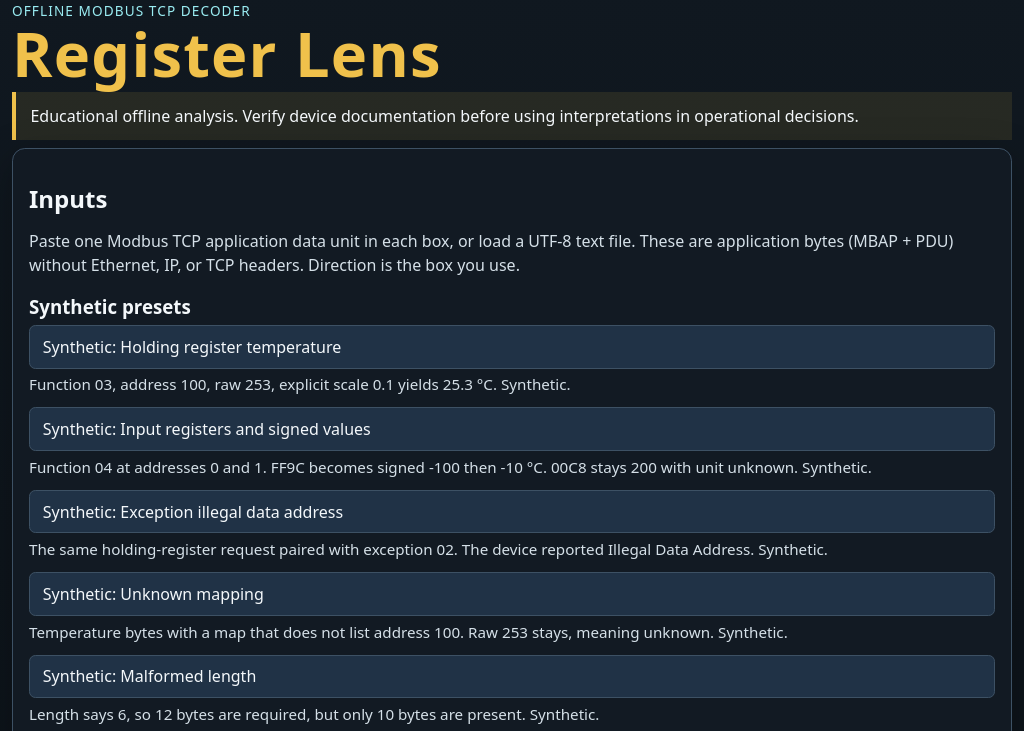
Scenario: Register Lens UI › shows the signed example, an exception, unknown mapping, and a transaction mismatch
Click the button "Synthetic: Input registers and signed values" at (207,429), box [29,407,995,451]
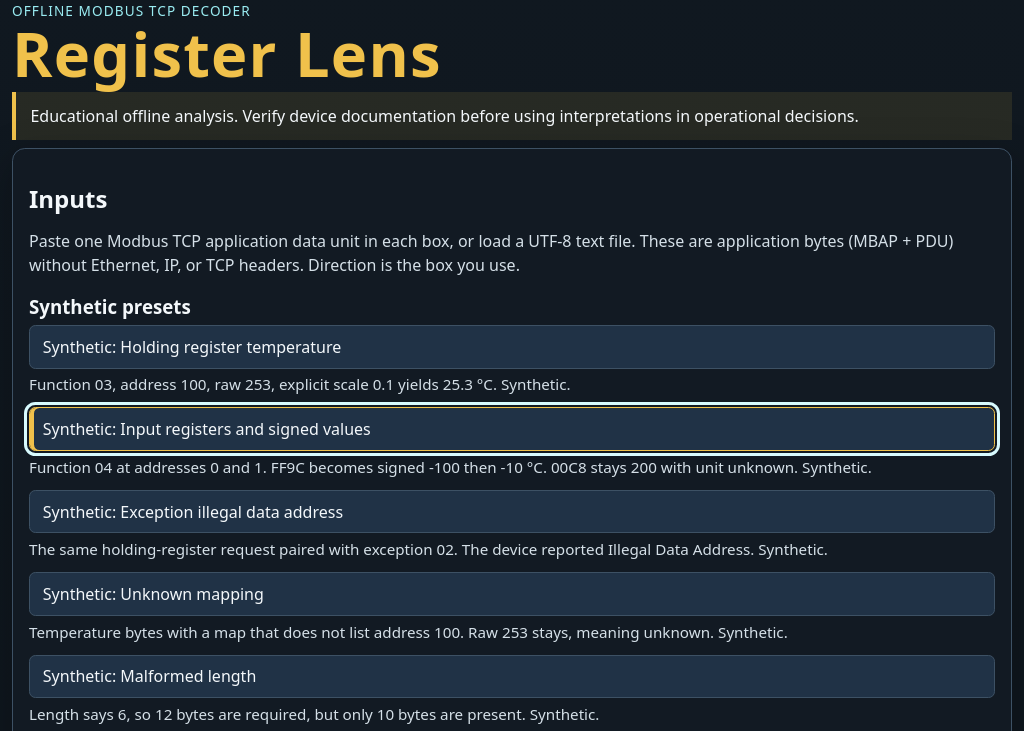
Click the button "Synthetic: Exception illegal data address" at (193,512), box [29,490,995,533]
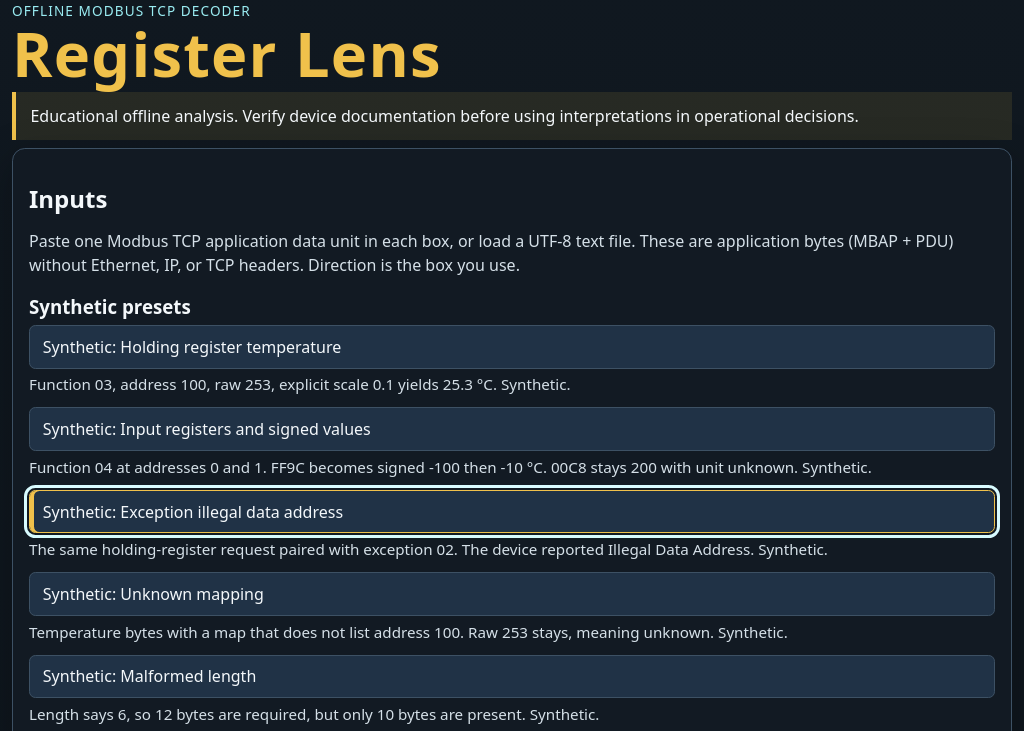
Click the button "Synthetic: Unknown mapping" at (153,594), box [29,572,995,616]
(page scrolled)
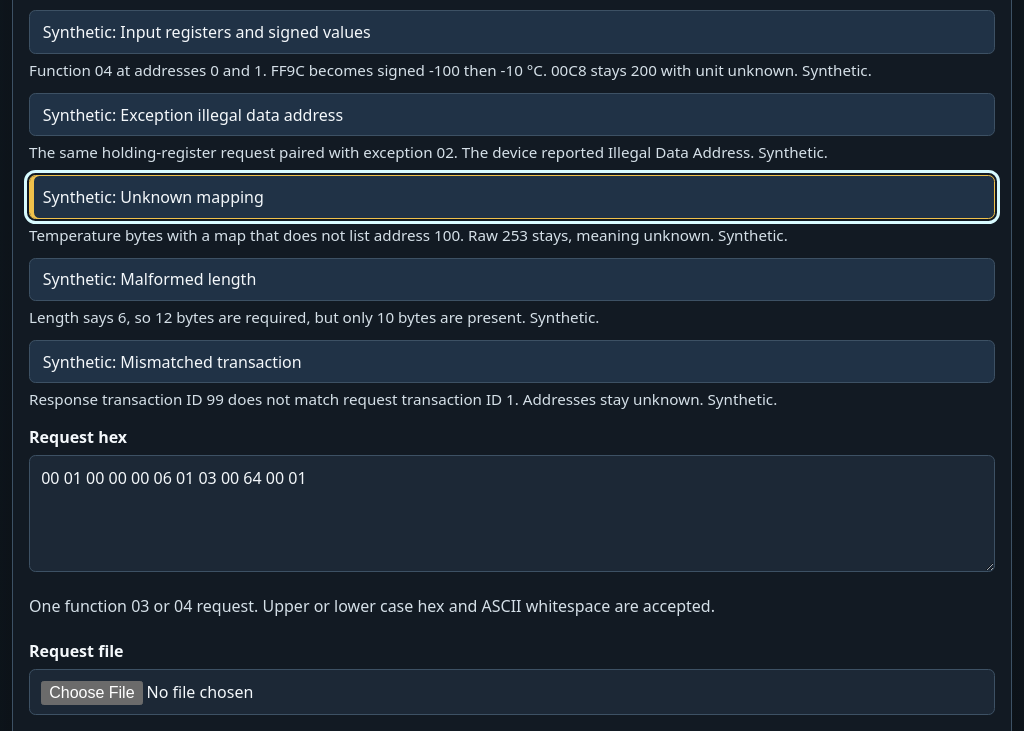
Click the button "Synthetic: Mismatched transaction" at (172,362), box [29,340,995,384]
(page scrolled)
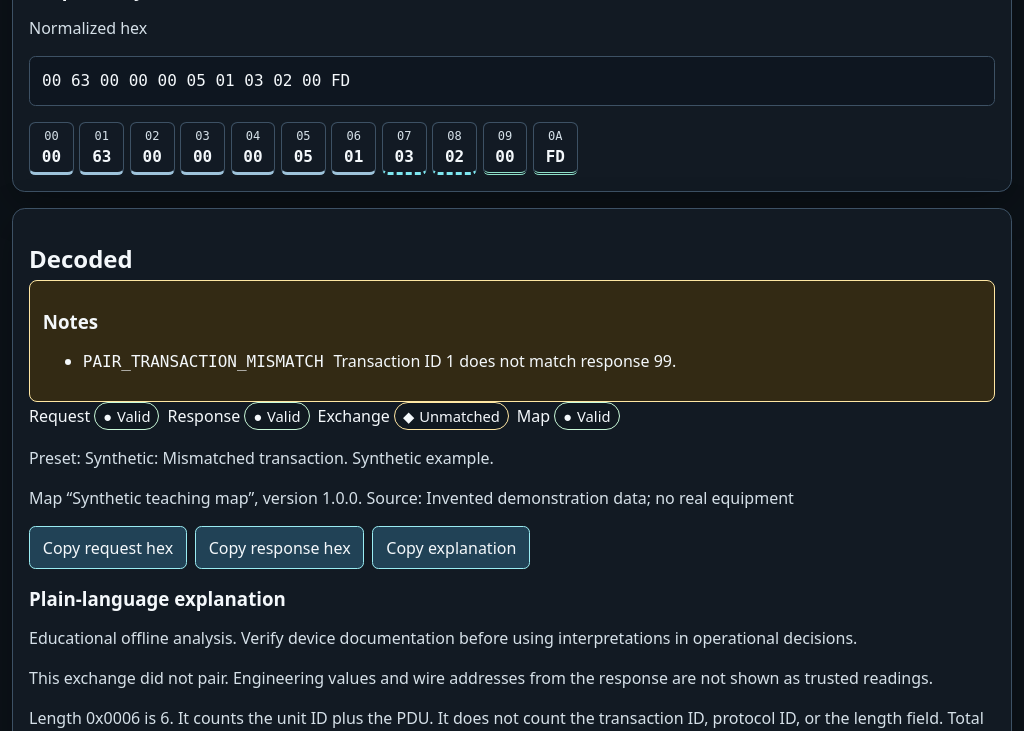
Expected: the list item "does not match response 99" is shown, [333,350,676,372]
